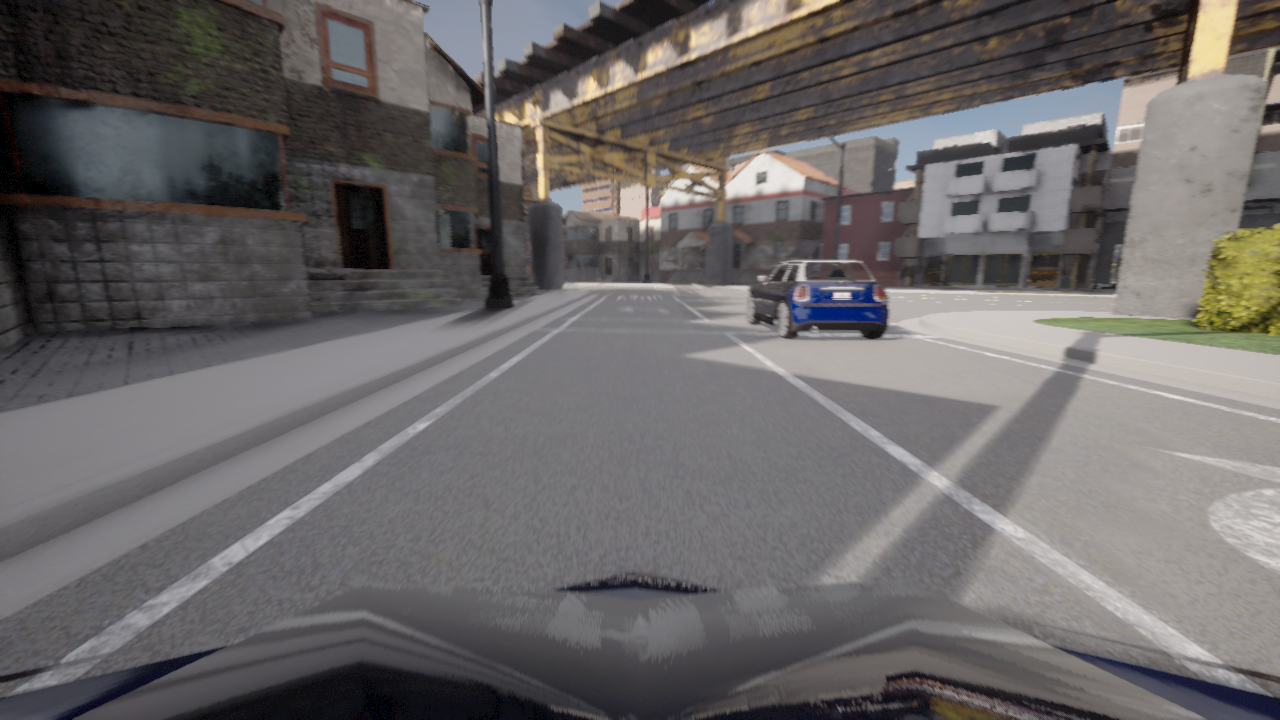cyclist: (0, 569, 1279, 719), (747, 259, 889, 339)
